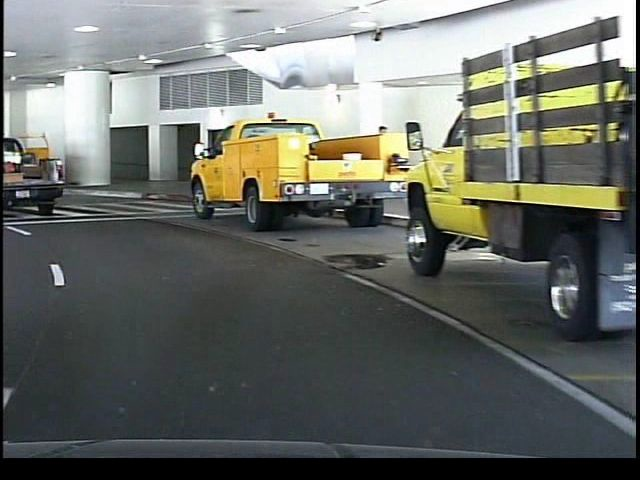person: (368, 118, 396, 205)
